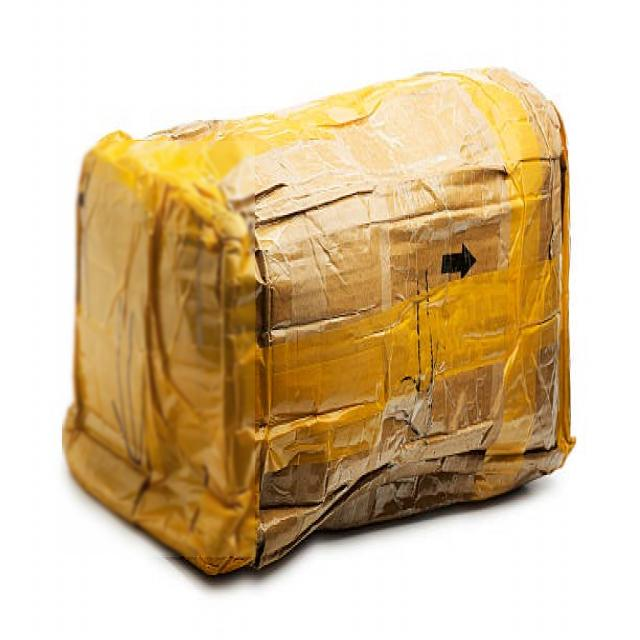squeeze: (62, 142, 255, 556)
